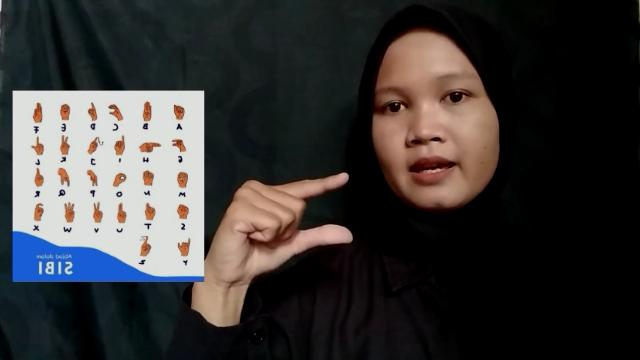G: (207, 172, 356, 282)
